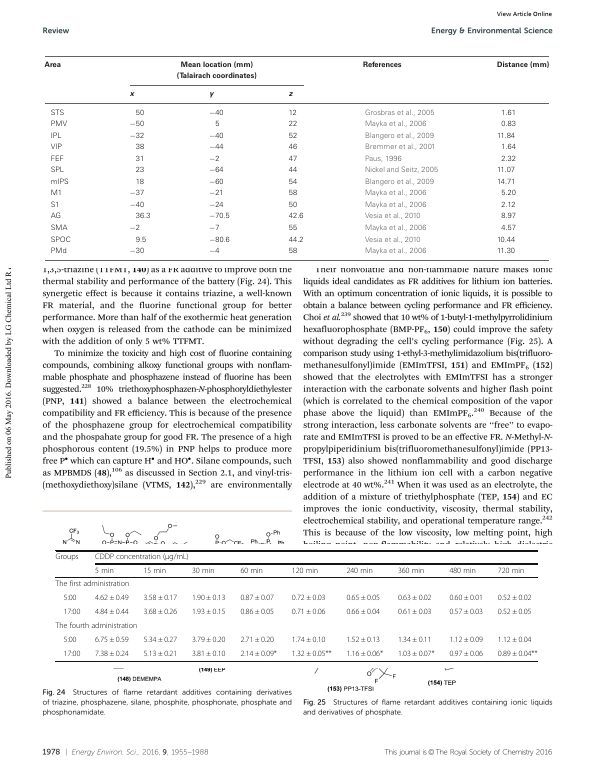borderless: (44, 55, 549, 260), (54, 549, 538, 661)
cell: (176, 61, 258, 81), (94, 553, 190, 562), (55, 621, 138, 631), (55, 579, 130, 589), (364, 166, 439, 175), (364, 144, 436, 153), (364, 109, 435, 118), (364, 132, 435, 141), (364, 178, 435, 187), (364, 201, 427, 210), (364, 224, 427, 233), (364, 247, 427, 256), (364, 213, 421, 222), (364, 236, 421, 245), (364, 121, 427, 129), (364, 190, 427, 198), (496, 61, 550, 69), (291, 649, 332, 659), (497, 649, 538, 659), (239, 649, 278, 659), (345, 649, 384, 659), (397, 649, 435, 659), (94, 593, 130, 603), (142, 593, 178, 603), (239, 593, 275, 603), (345, 593, 381, 603), (448, 593, 484, 603), (94, 607, 130, 617), (142, 607, 178, 617), (239, 607, 275, 617), (345, 607, 381, 617), (448, 607, 484, 617), (94, 635, 130, 645), (142, 635, 178, 645), (239, 635, 275, 645), (345, 635, 381, 645), (448, 635, 484, 645), (94, 649, 130, 659), (142, 649, 178, 659), (448, 649, 484, 659), (364, 155, 403, 164), (191, 593, 226, 603), (291, 593, 326, 603), (397, 593, 432, 603), (497, 593, 532, 603), (191, 607, 226, 617), (291, 607, 326, 617), (397, 607, 432, 617), (497, 607, 532, 617), (191, 635, 226, 645), (291, 635, 326, 645), (397, 635, 432, 645), (497, 635, 532, 645), (191, 649, 226, 659), (362, 61, 403, 69), (345, 566, 374, 575), (448, 566, 477, 575), (291, 566, 319, 575), (397, 566, 425, 575), (497, 566, 525, 575), (142, 566, 167, 575), (239, 566, 264, 575), (55, 553, 79, 562), (191, 566, 215, 575), (208, 213, 231, 222), (208, 236, 231, 245), (50, 236, 72, 245), (62, 607, 81, 617), (62, 649, 81, 659), (94, 566, 115, 575), (496, 132, 516, 141), (496, 166, 516, 175), (50, 178, 70, 187), (496, 178, 516, 187), (496, 236, 516, 245), (496, 247, 516, 256), (50, 224, 68, 233), (50, 247, 68, 256), (208, 109, 225, 118), (500, 109, 517, 118), (208, 132, 225, 141), (208, 144, 225, 153), (500, 144, 517, 153), (500, 155, 517, 164), (208, 166, 225, 175), (208, 178, 225, 187), (208, 190, 225, 199), (208, 201, 225, 210), (500, 213, 517, 222), (500, 224, 517, 233), (43, 61, 62, 69), (62, 593, 77, 603), (62, 635, 77, 645), (50, 121, 68, 129), (129, 132, 145, 141), (129, 190, 145, 199), (129, 201, 145, 210), (500, 201, 516, 210), (135, 213, 151, 222), (288, 213, 304, 222), (288, 236, 304, 245), (129, 247, 145, 256), (500, 121, 517, 129), (500, 190, 517, 198), (50, 109, 65, 118), (50, 155, 65, 164), (50, 166, 65, 175), (129, 121, 145, 129), (50, 132, 63, 141), (50, 144, 63, 153), (50, 190, 63, 199), (208, 155, 220, 164), (50, 213, 62, 222), (129, 224, 141, 233), (208, 224, 220, 233), (135, 236, 147, 245), (208, 247, 220, 256), (135, 109, 145, 118), (288, 109, 298, 118), (288, 132, 298, 141), (135, 144, 145, 153), (288, 144, 298, 153), (135, 155, 145, 164), (288, 155, 298, 164), (135, 166, 145, 175), (288, 166, 298, 175), (135, 178, 145, 187), (288, 178, 298, 187), (288, 190, 298, 199), (50, 201, 60, 210), (288, 201, 298, 210), (288, 224, 298, 233), (288, 247, 298, 256), (288, 121, 298, 129), (214, 121, 220, 129), (129, 92, 135, 99), (208, 92, 214, 99), (288, 92, 293, 99)
